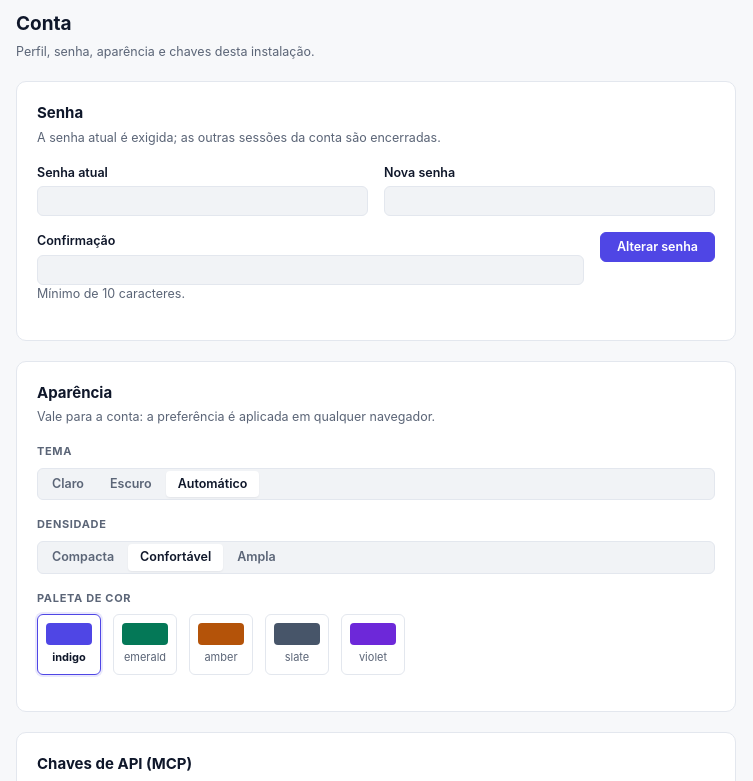
it: AccountPage › troca a senha com os três campos corretos
The image size is (753, 781).
In the password field with test id "account-password-current": (202, 201) [37,186,368,216], type "senha-antiga-bem-longa"
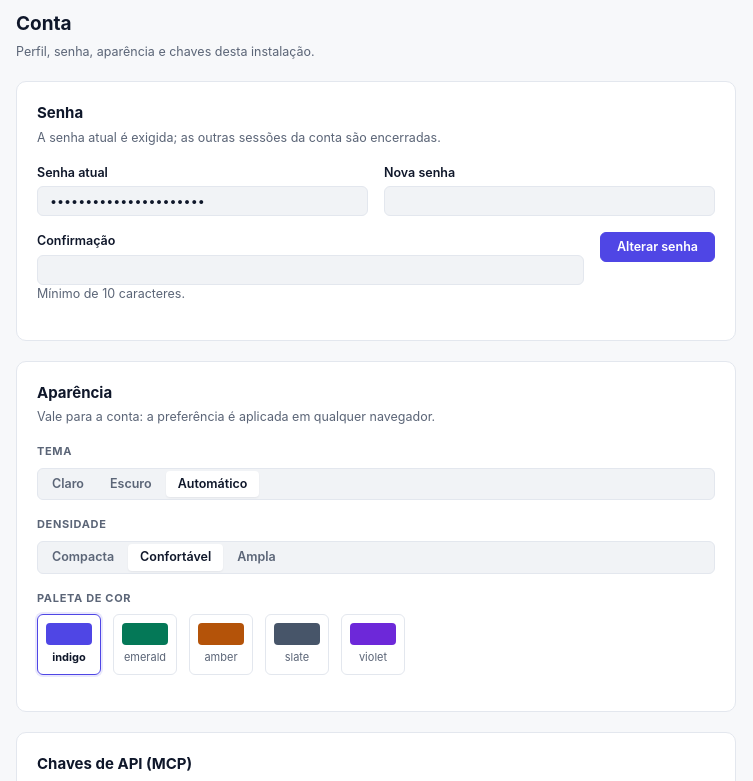
In the password field with test id "account-password-new": (550, 201) [384,186,715,216], type "senha-nova-bem-longa"
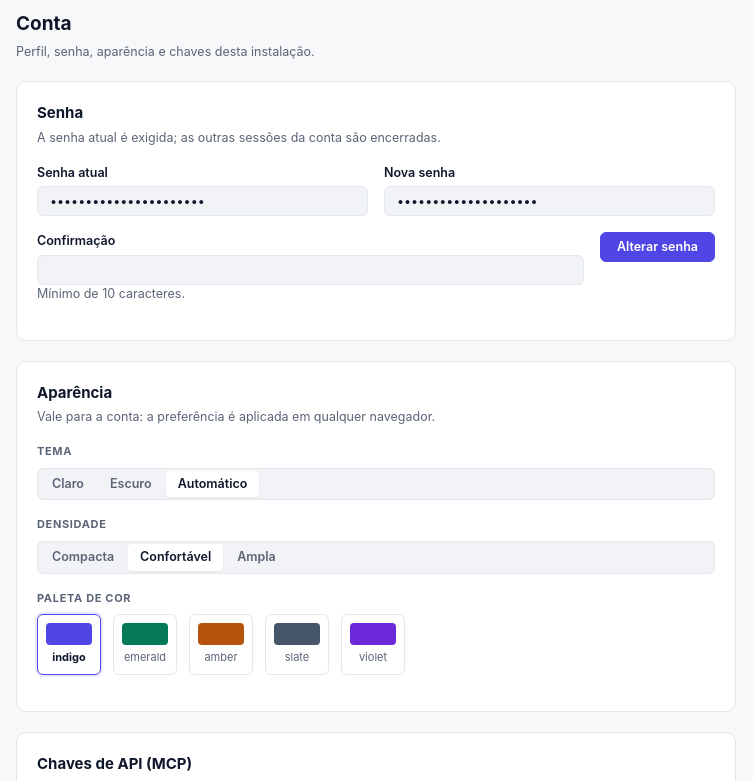
In the password field with test id "account-password-confirm": (310, 270) [37,255,584,285], type "senha-nova-bem-longa"
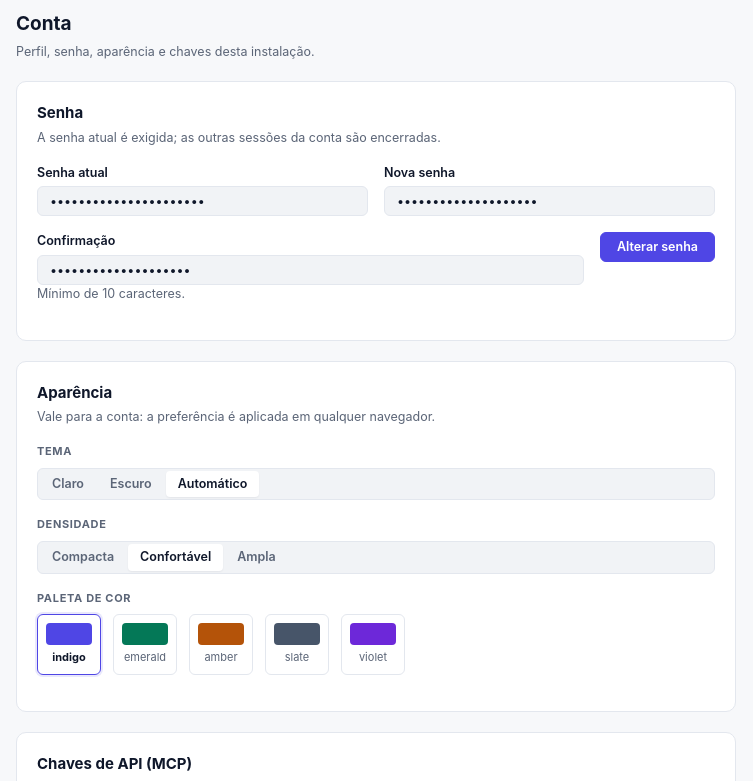
Submit the form with test id "account-password-submit", box [37,164,715,285]
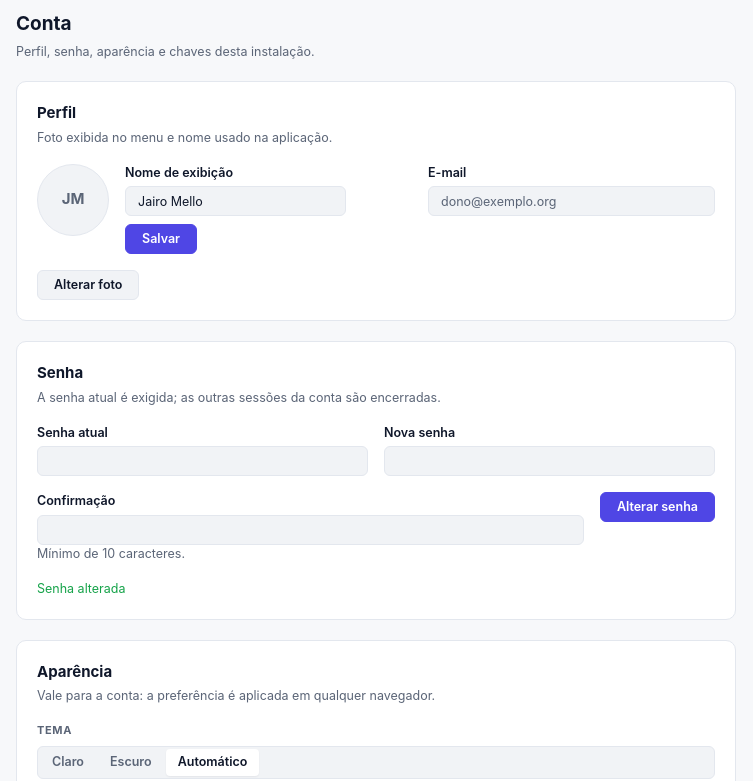
Result: the message with test id "account-password-success" reads "Senha alterada" at [37,581,126,596]
Result: the password field with test id "account-password-current" is empty at [37,446,368,476]
